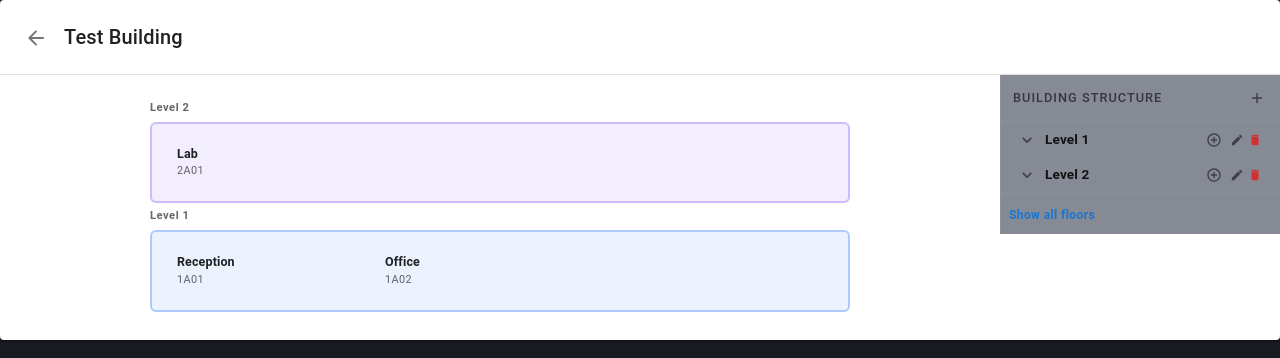
Test: BuildingStructureView › Shall_show_rooms_in_panel_when_floor_expanded
# The panel's Level 1 is inside a ListItemButton
Click the button "Level 1".
click(1067, 139)  # box [1017,130,1264,150]
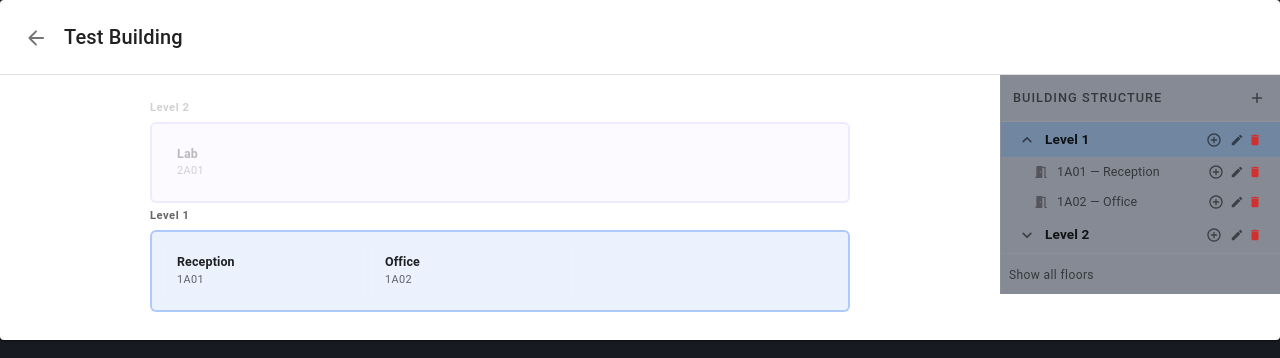
Now the text "1A01 — Reception" is shown, box [1057,164,1160,179]
Now the text "1A02 — Office" is shown, box [1057,194,1137,209]
